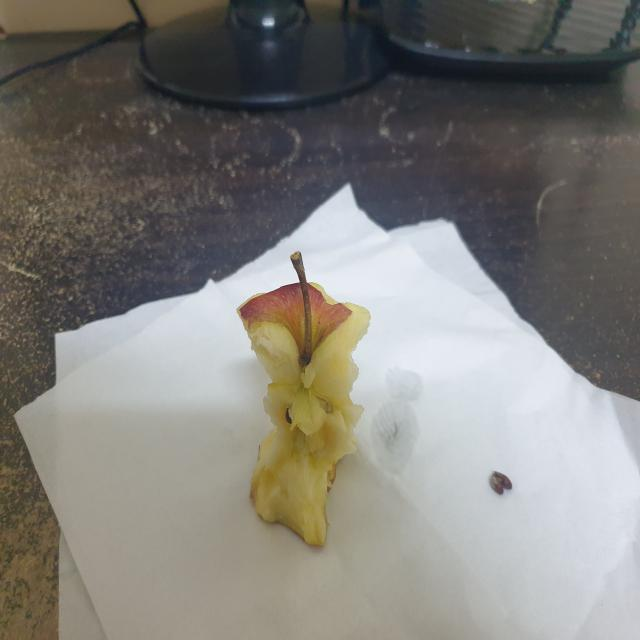apple: (215, 245, 379, 550)
